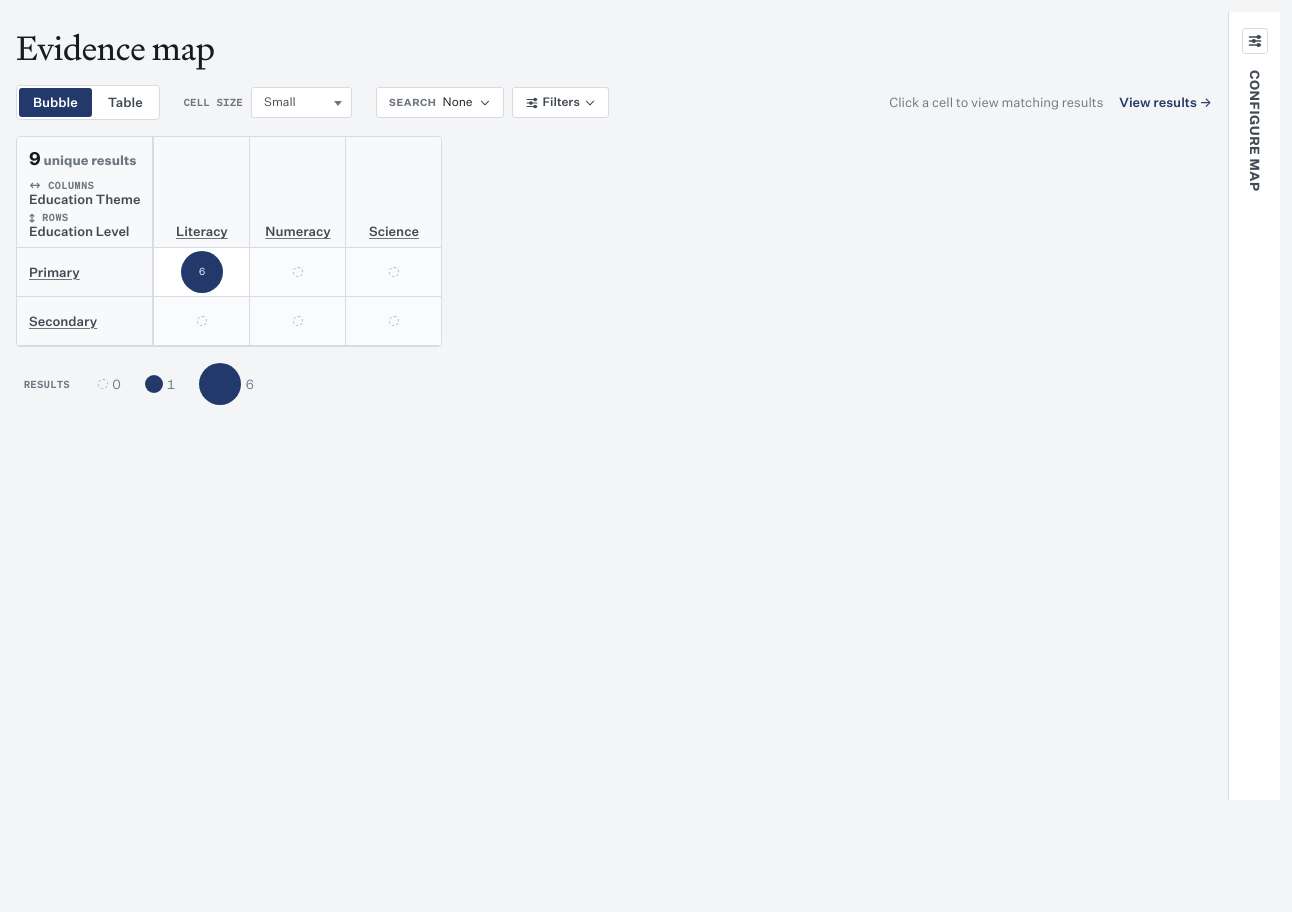
Scenario: VisualisePage on small screens › folds the panel to its rail below 1440px; rail and Hide panel toggle it and remember the choice
Expected: the button "Show results" is not shown
Step 1. Click the button "Configure map" → coordinates (1254, 406), box [1229, 12, 1280, 800]
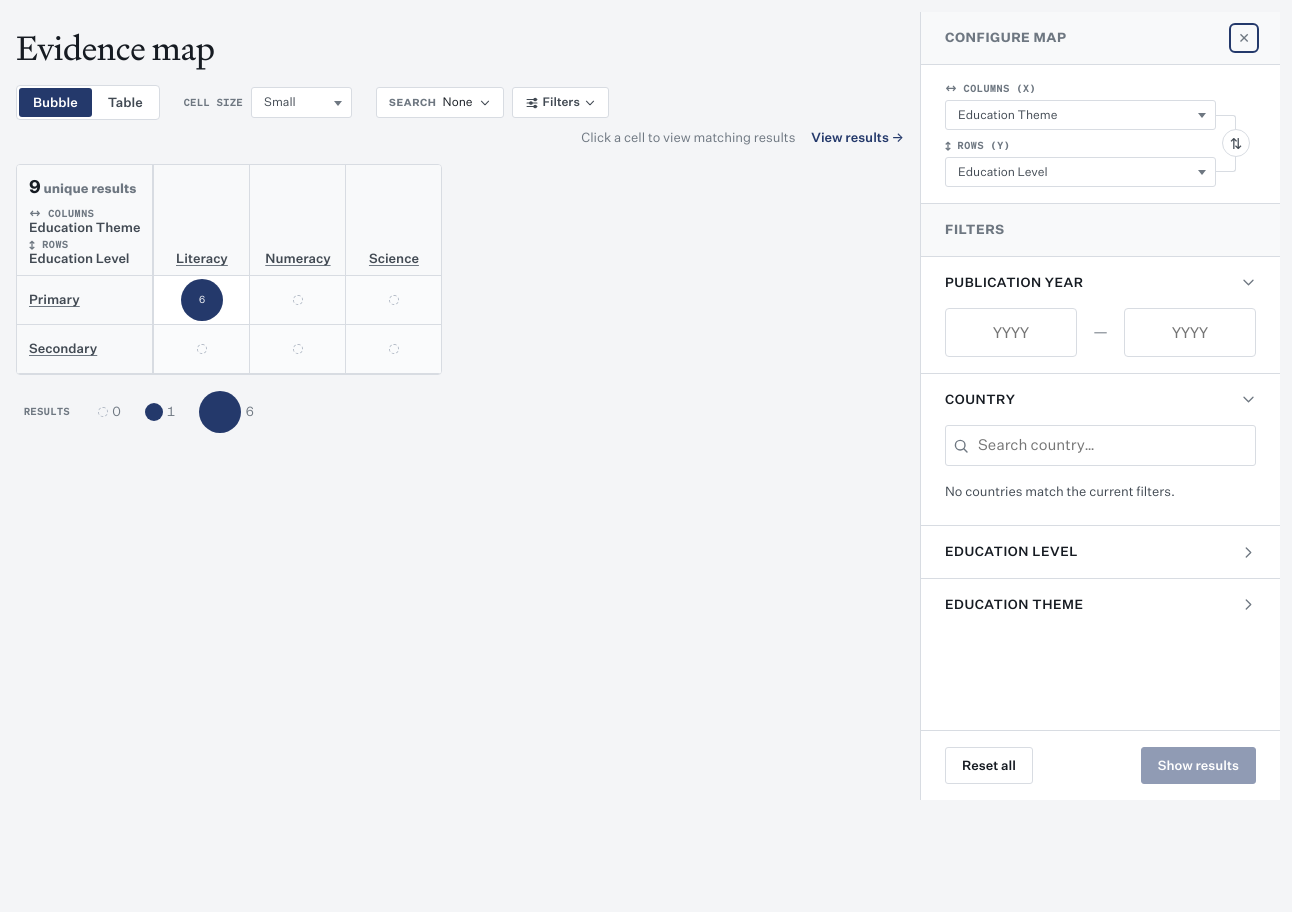
Expected: the button "Show results" is shown, [1141, 746, 1256, 784]
Step 2. Click the button named "Hide panel" → coordinates (1244, 38), box [1232, 26, 1256, 50]
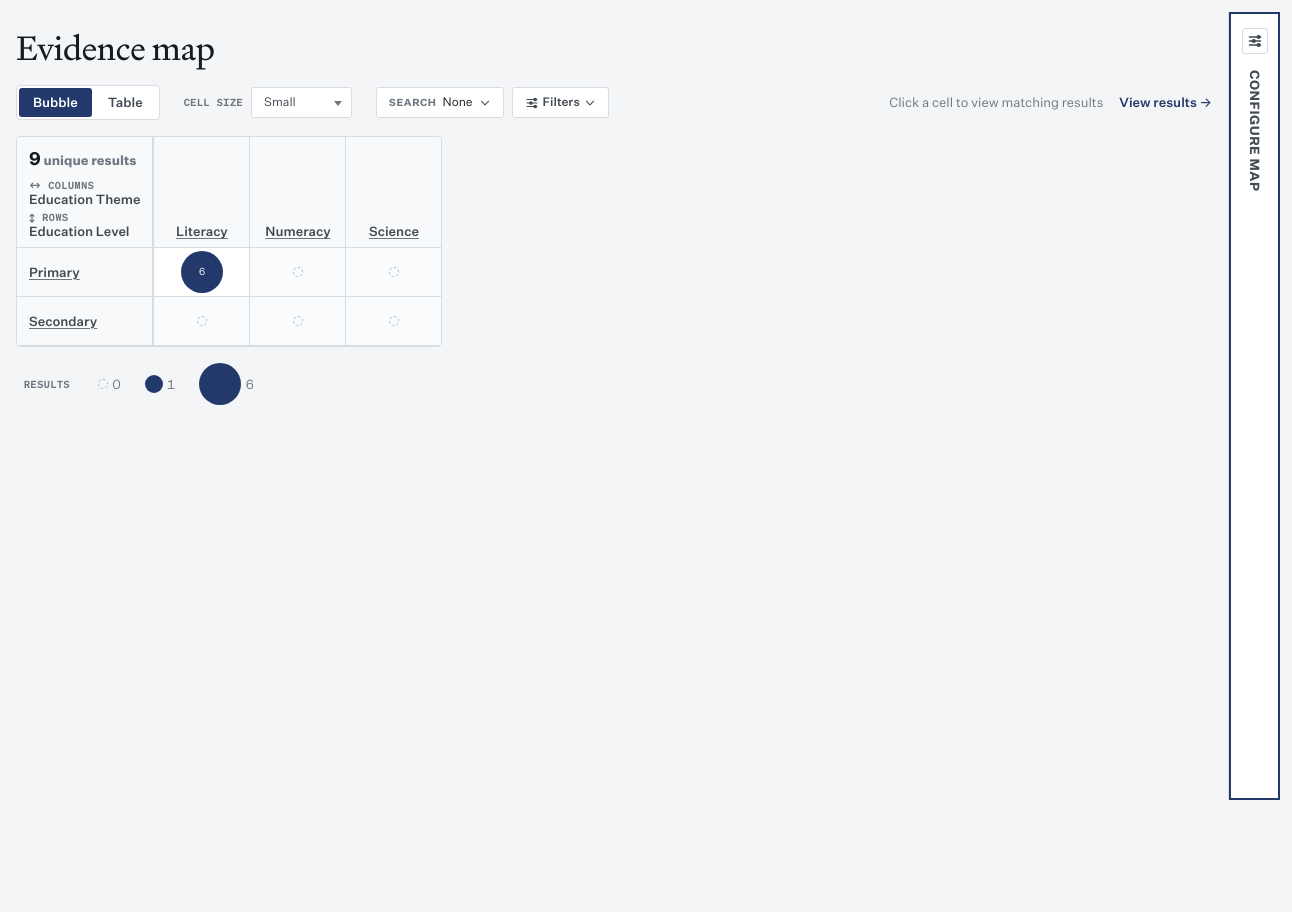
Expected: the button "Show results" is gone
